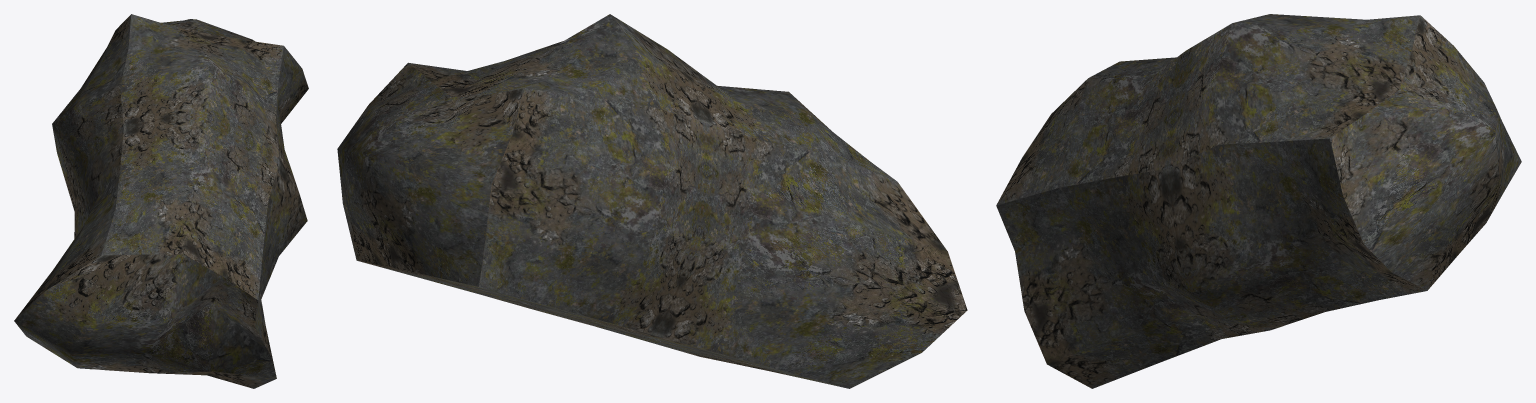
Rendered from Rock06.fbx.
3 views of the same model, side by side, from view 1: azimuth 30°, elevation 25°; view 2: azimuth 150°, elevation 25°; view 3: azimuth 270°, elevation 25° (orthographic). The views are drawn at different scales.
Parts seen in each view (by area): view 1: Rock06; view 2: Rock06; view 3: Rock06.
Part boxes in pixels (x1=…): Rock06: x1=14, y1=14, x2=308, y2=388; Rock06: x1=337, y1=14, x2=967, y2=388; Rock06: x1=996, y1=14, x2=1521, y2=388.
Bounding box in the file's own units: 16.31 × 11.82 × 15.02.
